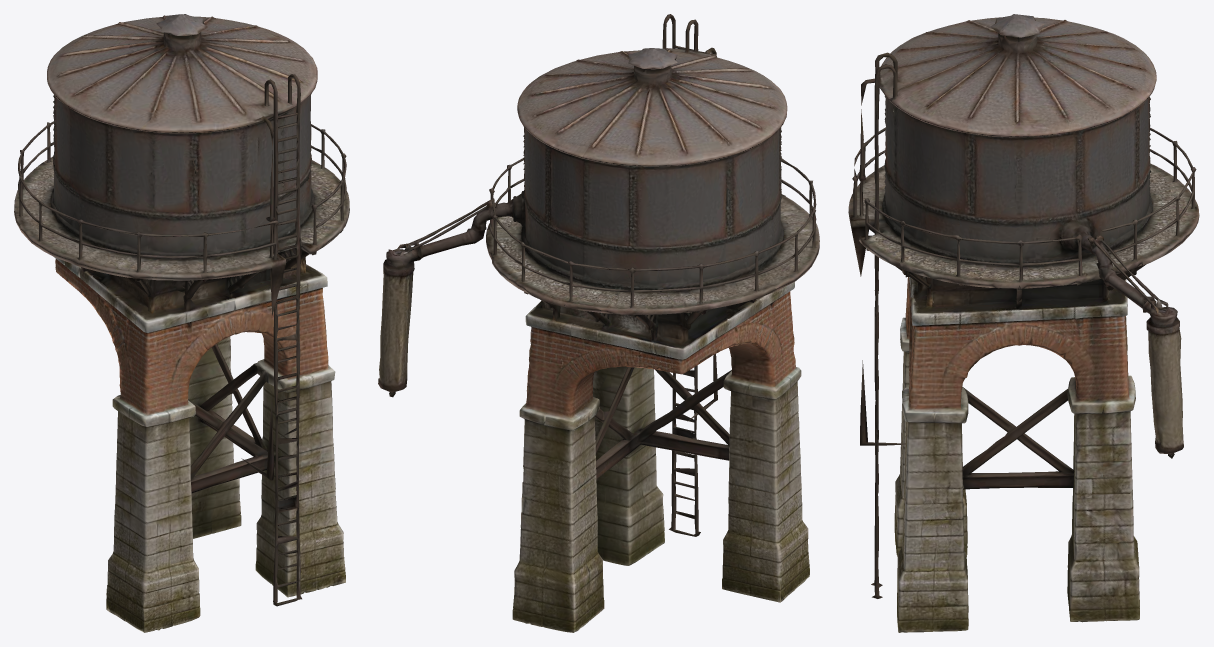
The model's file is prop_water_tower.glb.
The picture shows the model from 3 angles, left to right: view 1: azimuth 30°, elevation 25°; view 2: azimuth 150°, elevation 25°; view 3: azimuth 270°, elevation 25°; orthographic projection. The views are drawn at different scales.
Visible parts, largest first — view 1: tripo_node_500aad40-8b33-4e7b-a744-92faa4e6a78b; view 2: tripo_node_500aad40-8b33-4e7b-a744-92faa4e6a78b; view 3: tripo_node_500aad40-8b33-4e7b-a744-92faa4e6a78b.
Part boxes in pixels (box(x1,y1,x2,y2)): tripo_node_500aad40-8b33-4e7b-a744-92faa4e6a78b: box(14, 14, 349, 632); tripo_node_500aad40-8b33-4e7b-a744-92faa4e6a78b: box(378, 14, 819, 632); tripo_node_500aad40-8b33-4e7b-a744-92faa4e6a78b: box(848, 14, 1199, 632).
Bounding box in the file's own units: 0.6435 × 0.9798 × 0.5508.
Materials: 1 (1 with a texture image).
